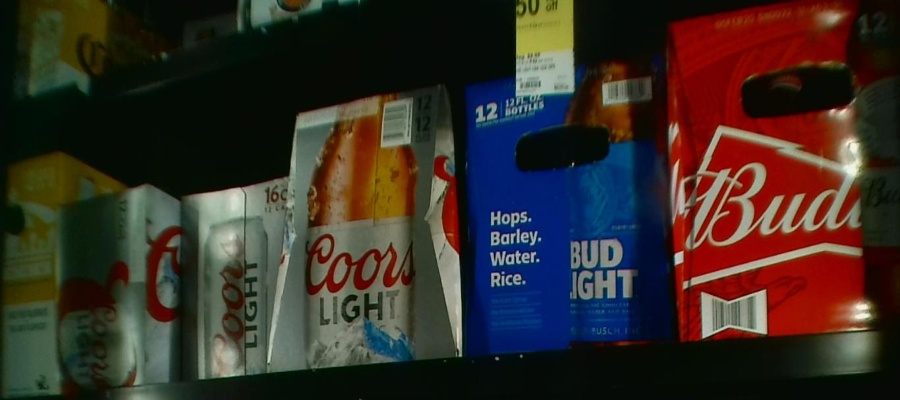bottle: (671, 13, 900, 340), (462, 60, 675, 347), (291, 107, 460, 360), (57, 192, 179, 394), (174, 181, 282, 376), (1, 152, 59, 392)
